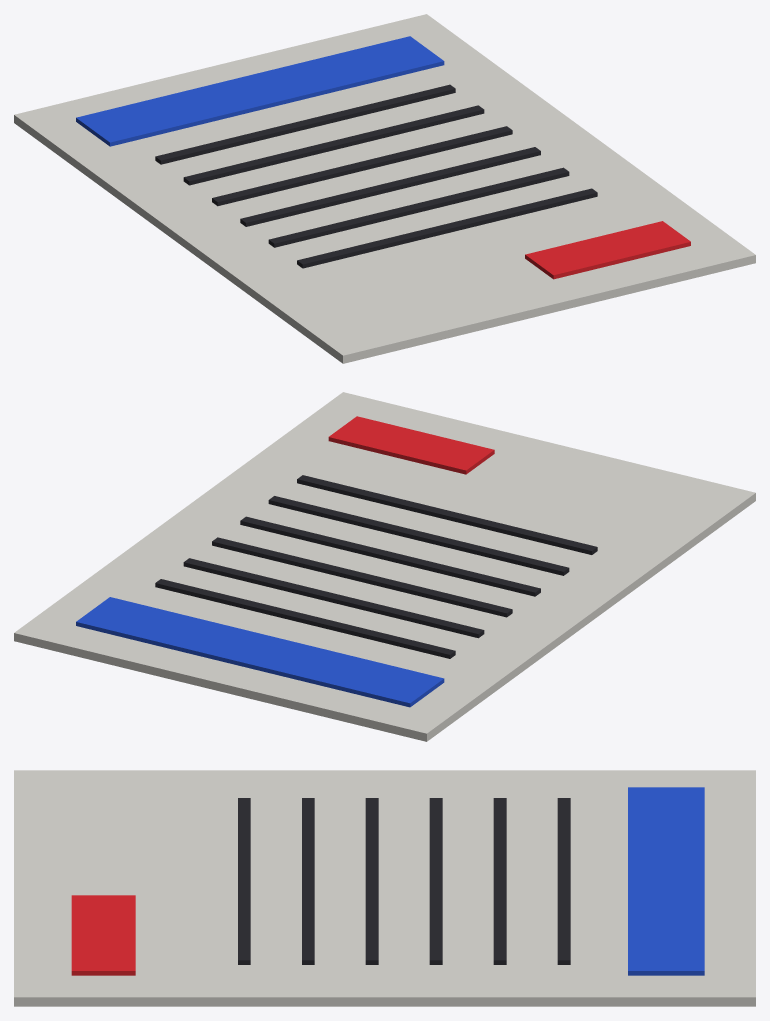
The model's file is watch_invoice.glb.
The picture shows the model from 3 angles, top to bottom: view 1: azimuth 30°, elevation 25°; view 2: azimuth 150°, elevation 25°; view 3: azimuth 270°, elevation 25°; orthographic projection. The views are drawn at different scales.
Visible parts, largest first — view 1: paper_white, lines_invoice_ink (×6), header_invoice_header, total_invoice_total; view 2: paper_white, lines_invoice_ink (×6), header_invoice_header, total_invoice_total; view 3: paper_white, header_invoice_header, lines_invoice_ink (×6), total_invoice_total.
Part boxes in pixels (x1,y1,x2,y2): paper_white: (14, 14, 755, 363); lines_invoice_ink (×6): (155, 84, 597, 268); header_invoice_header: (76, 36, 444, 146); total_invoice_total: (525, 221, 690, 279); paper_white: (14, 392, 755, 741); lines_invoice_ink (×6): (155, 475, 597, 658); header_invoice_header: (76, 597, 444, 707); total_invoice_total: (328, 416, 494, 474); paper_white: (14, 770, 755, 1006); header_invoice_header: (628, 787, 704, 975); lines_invoice_ink (×6): (238, 798, 570, 964); total_invoice_total: (71, 895, 135, 975).
Size of the model in its own units: 0.21 by 0.006 by 0.29.
